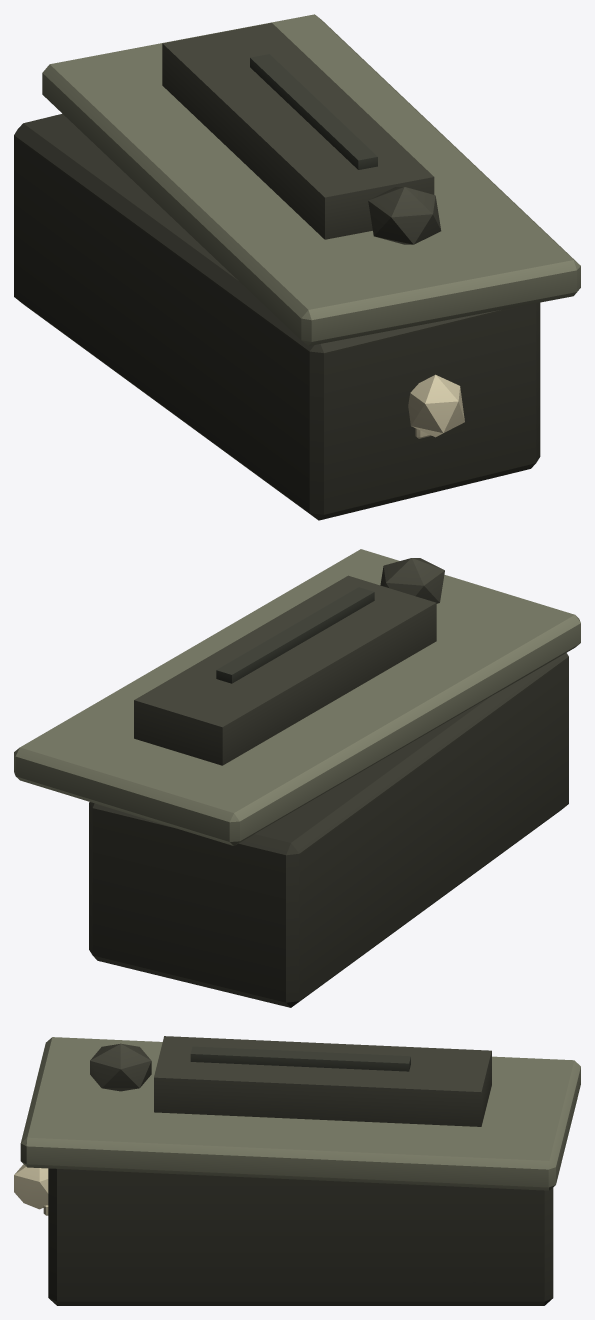
File: sarcophagus.glb
3 views of the same model, one above another, from view 1: azimuth 30°, elevation 25°; view 2: azimuth 150°, elevation 25°; view 3: azimuth 270°, elevation 25° (orthographic). The views are drawn at different scales.
Parts seen in each view (by area): view 1: sarcophagus_mesh; view 2: sarcophagus_mesh; view 3: sarcophagus_mesh.
Part boxes in pixels (left/top/right/bottom): sarcophagus_mesh: left=14, top=14, right=580, bottom=520; sarcophagus_mesh: left=14, top=549, right=580, bottom=1007; sarcophagus_mesh: left=14, top=1036, right=580, bottom=1305.
Size of the model in its own units: 1.39 by 1.14 by 2.58.
